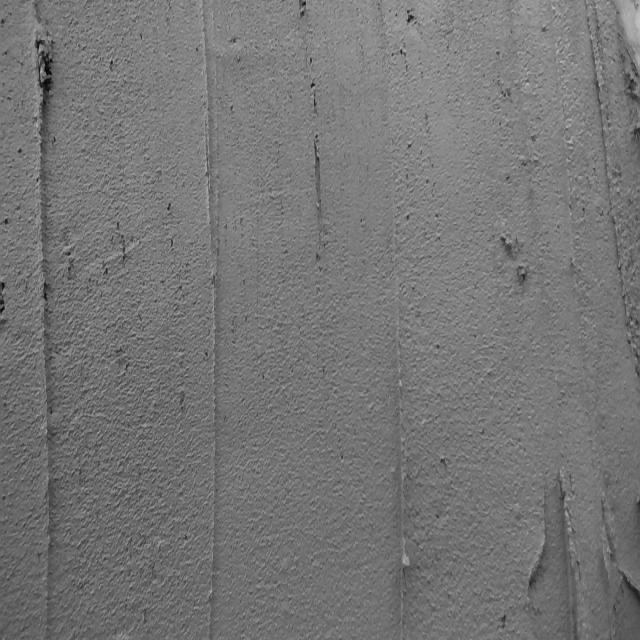trowels marks: (27, 6, 58, 640), (194, 0, 223, 640), (386, 173, 418, 640), (585, 15, 620, 330), (556, 443, 583, 640)
